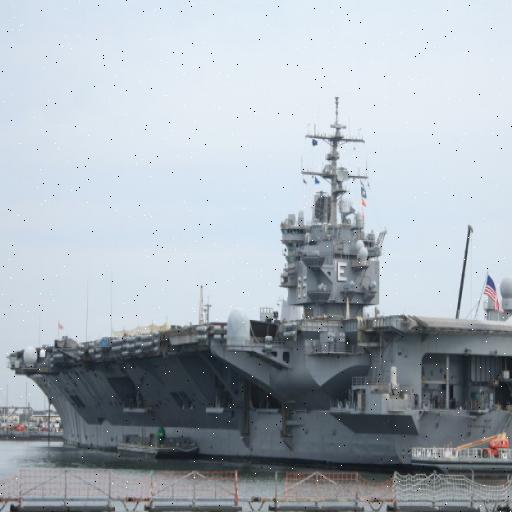Portanaves: (1, 76, 512, 460)
